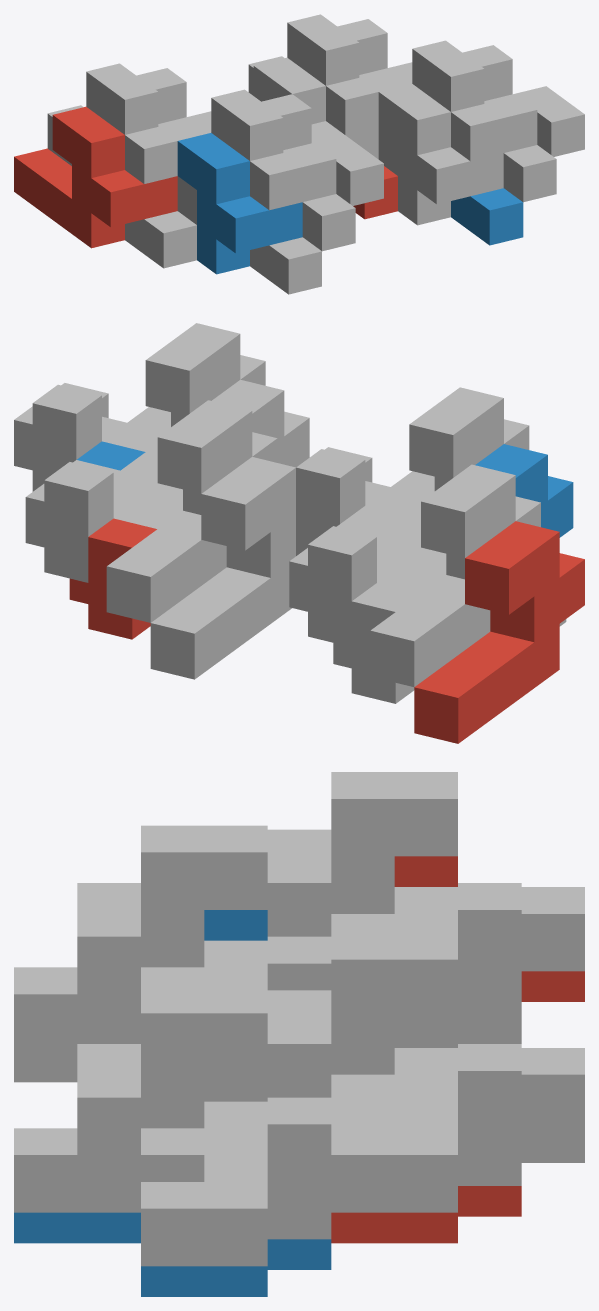
Rendered from tiling.obj.
3 renders of one model, top to bottom at view 1: azimuth 30°, elevation 25°; view 2: azimuth 150°, elevation 25°; view 3: azimuth 270°, elevation 25°, orthographic. The views are drawn at different scales.
Parts seen in each view (by area): view 1: copy_1_domain_1, copy_1_domain_6, copy_1_domain_2, copy_1_domain_8, copy_1_domain_4, copy_1_domain_3, copy_1_domain_7, copy_2_domain_4, copy_2_domain_8, copy_1_domain_5, copy_2_domain_6, copy_2_domain_2 (+4 smaller); view 2: copy_1_domain_1, copy_1_domain_5, copy_1_domain_7, copy_1_domain_3, copy_2_domain_7, copy_2_domain_3, copy_1_domain_8, copy_1_domain_4, copy_2_domain_8, copy_2_domain_4, copy_2_domain_1, copy_2_domain_5 (+4 smaller); view 3: copy_2_domain_8, copy_1_domain_7, copy_1_domain_3, copy_1_domain_8, copy_2_domain_7, copy_1_domain_4, copy_2_domain_4, copy_2_domain_3, copy_2_domain_6, copy_2_domain_5, copy_1_domain_1, copy_1_domain_5 (+4 smaller).
Boxes of the visible parts, box(x1,y1,x2,y2) form: copy_1_domain_1: box(14, 106, 177, 248); copy_1_domain_6: box(378, 84, 503, 225); copy_1_domain_2: box(177, 133, 302, 274); copy_1_domain_8: box(412, 40, 537, 161); copy_1_domain_4: box(211, 89, 336, 210); copy_1_domain_3: box(47, 63, 210, 183); copy_1_domain_7: box(248, 14, 411, 134); copy_2_domain_4: box(262, 94, 383, 251); copy_2_domain_8: box(463, 45, 584, 202); copy_1_domain_5: box(253, 57, 378, 159); copy_2_domain_6: box(451, 188, 523, 245); copy_2_domain_2: box(250, 237, 321, 294); copy_1_domain_1: box(414, 521, 584, 743); copy_1_domain_5: box(150, 457, 295, 679); copy_1_domain_7: box(106, 400, 277, 622); copy_1_domain_3: box(370, 464, 540, 686); copy_2_domain_7: box(25, 460, 182, 582); copy_2_domain_3: box(289, 524, 446, 646); copy_1_domain_8: box(113, 323, 265, 499); copy_1_domain_4: box(377, 387, 529, 563); copy_2_domain_8: box(14, 383, 170, 491); copy_2_domain_4: box(296, 447, 434, 555); copy_2_domain_1: box(333, 583, 566, 703); copy_2_domain_5: box(69, 518, 156, 639); copy_2_domain_8: box(14, 1097, 331, 1266); copy_1_domain_7: box(267, 933, 584, 1132); copy_1_domain_3: box(267, 772, 584, 971); copy_1_domain_8: box(77, 986, 394, 1154); copy_2_domain_7: box(331, 1044, 521, 1212); copy_1_domain_4: box(77, 825, 267, 994); copy_2_domain_4: box(14, 936, 331, 1051); copy_2_domain_3: box(331, 883, 521, 1024); copy_2_domain_6: box(14, 1212, 331, 1296); copy_2_domain_5: box(331, 1186, 521, 1243); copy_1_domain_1: box(394, 856, 584, 1001); copy_1_domain_5: box(394, 1017, 584, 1162).
Bounding box in the file's own units: 13 × 4 × 9.
